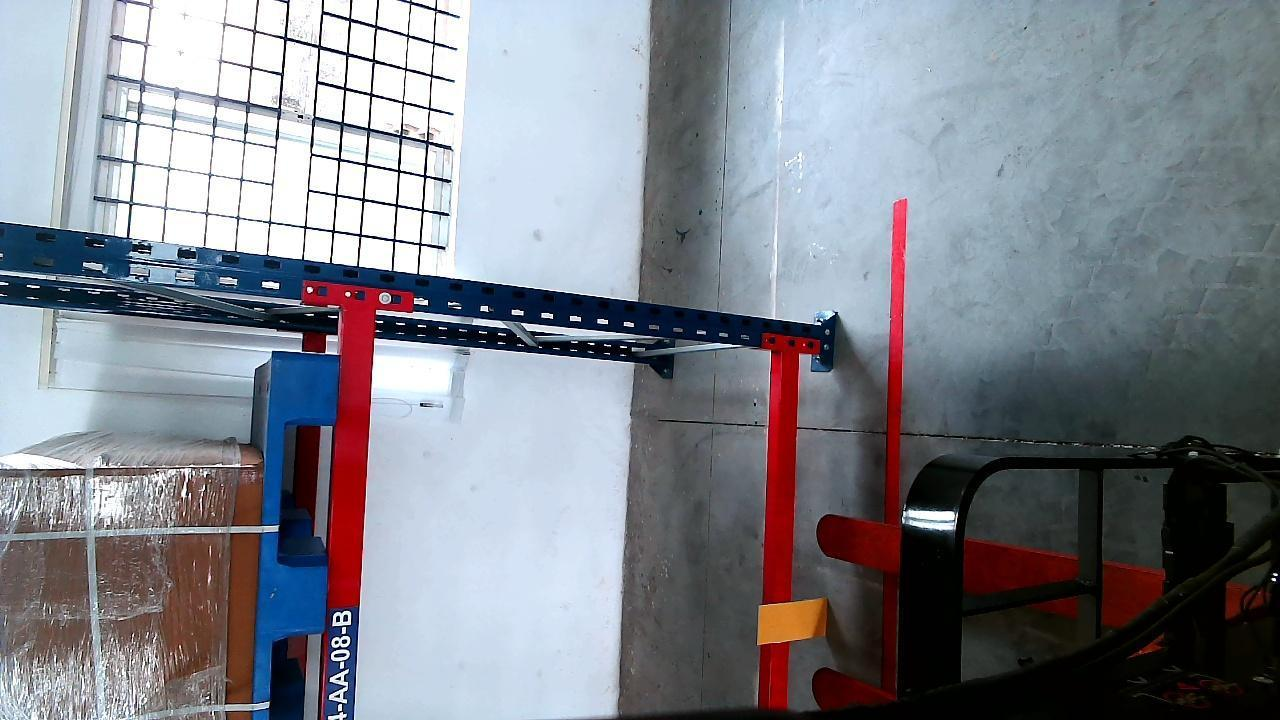h_rack: (324, 292, 375, 720), (763, 348, 796, 711)
orange_strip: (759, 599, 825, 644)
red_line: (884, 193, 909, 514)
small_pallet: (257, 357, 334, 720)
